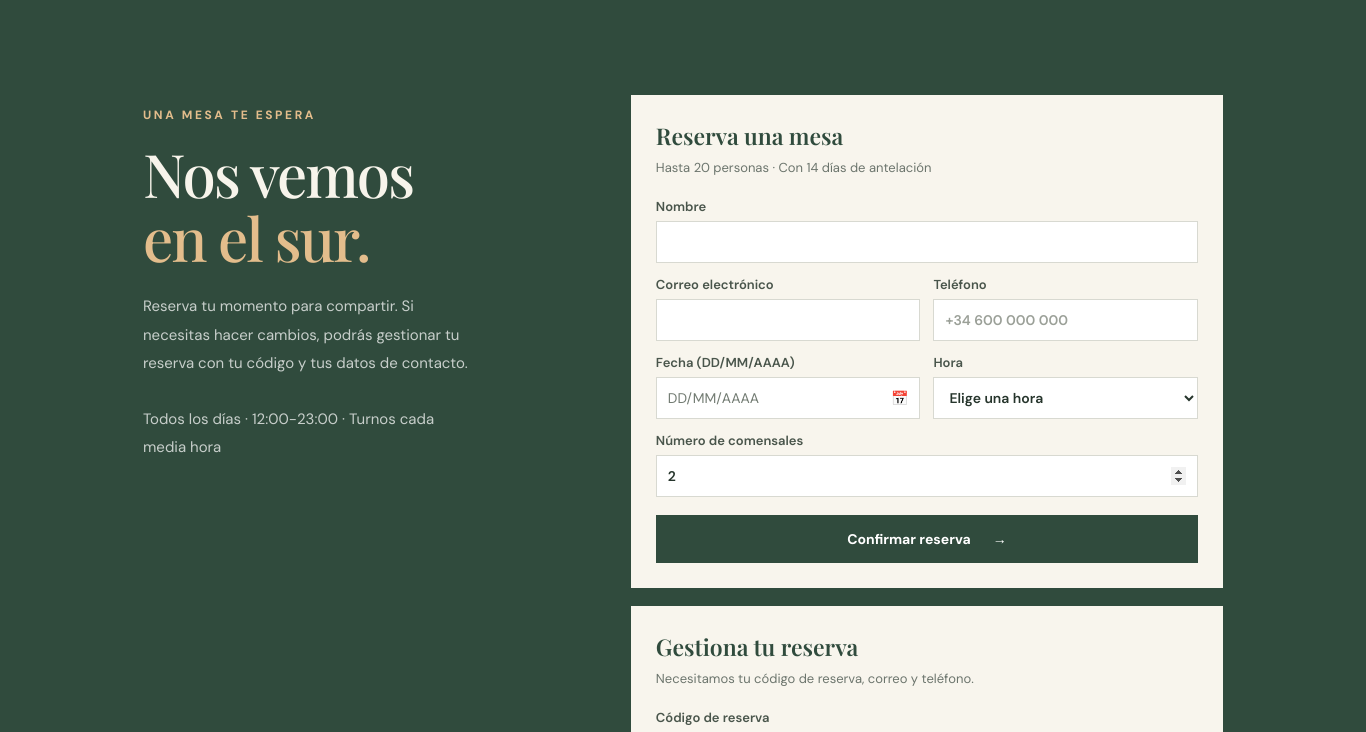
Test: ReservationSection › shows Spanish validation and requires choosing a date
Type "Ana Pérez" into the field labelled "Nombre".
click(927, 242); type("Ana Pérez")  # box [656, 221, 1198, 263]
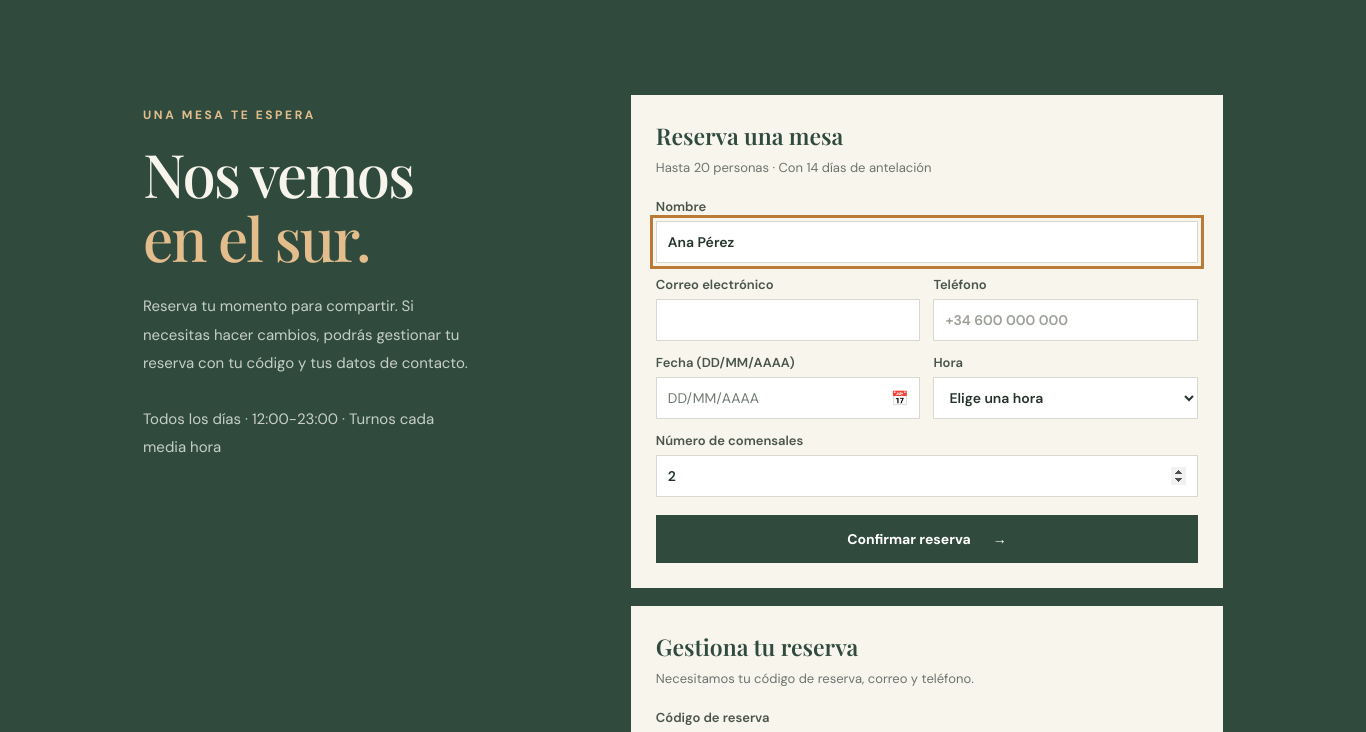
Type "ana@example.com" into the field named "email".
click(788, 320); type("ana@example.com")  # box [656, 299, 920, 341]
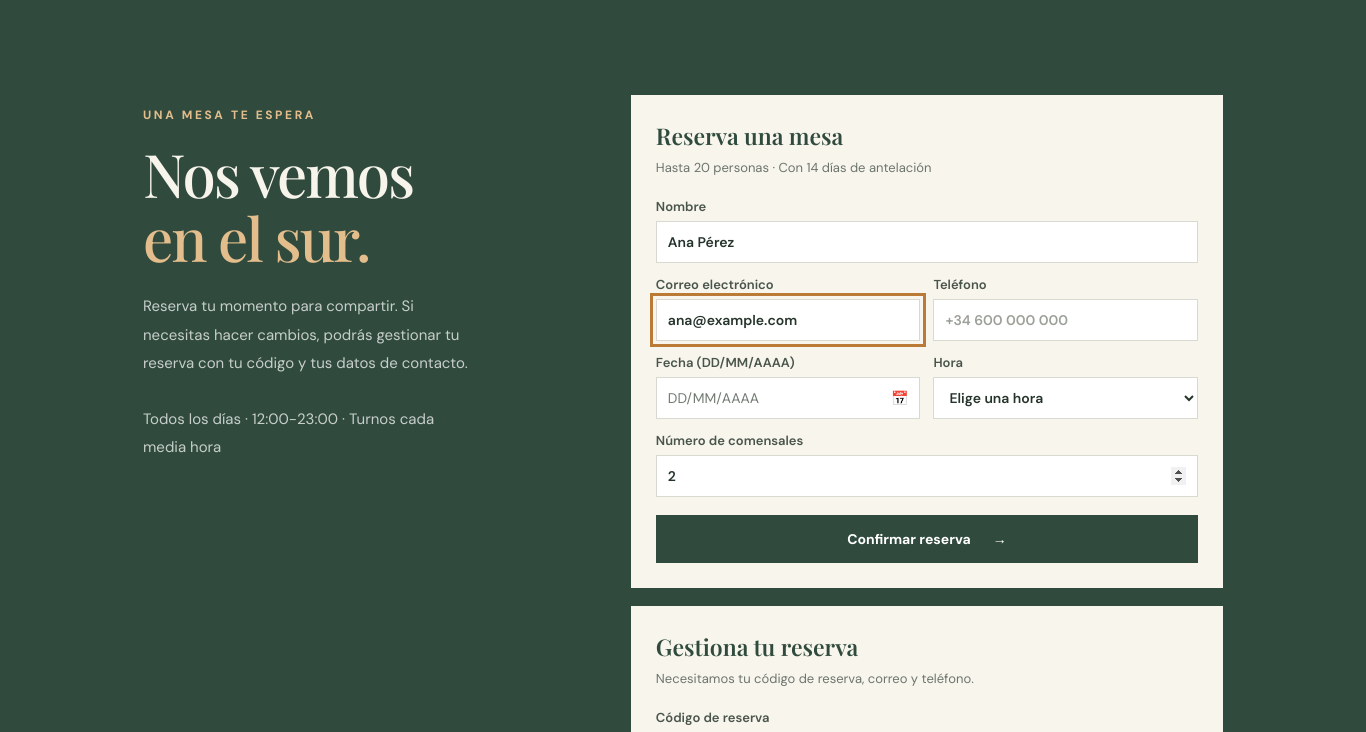
Type "+34612345678" into the field named "phone".
click(1066, 320); type("+34612345678")  # box [933, 299, 1198, 341]
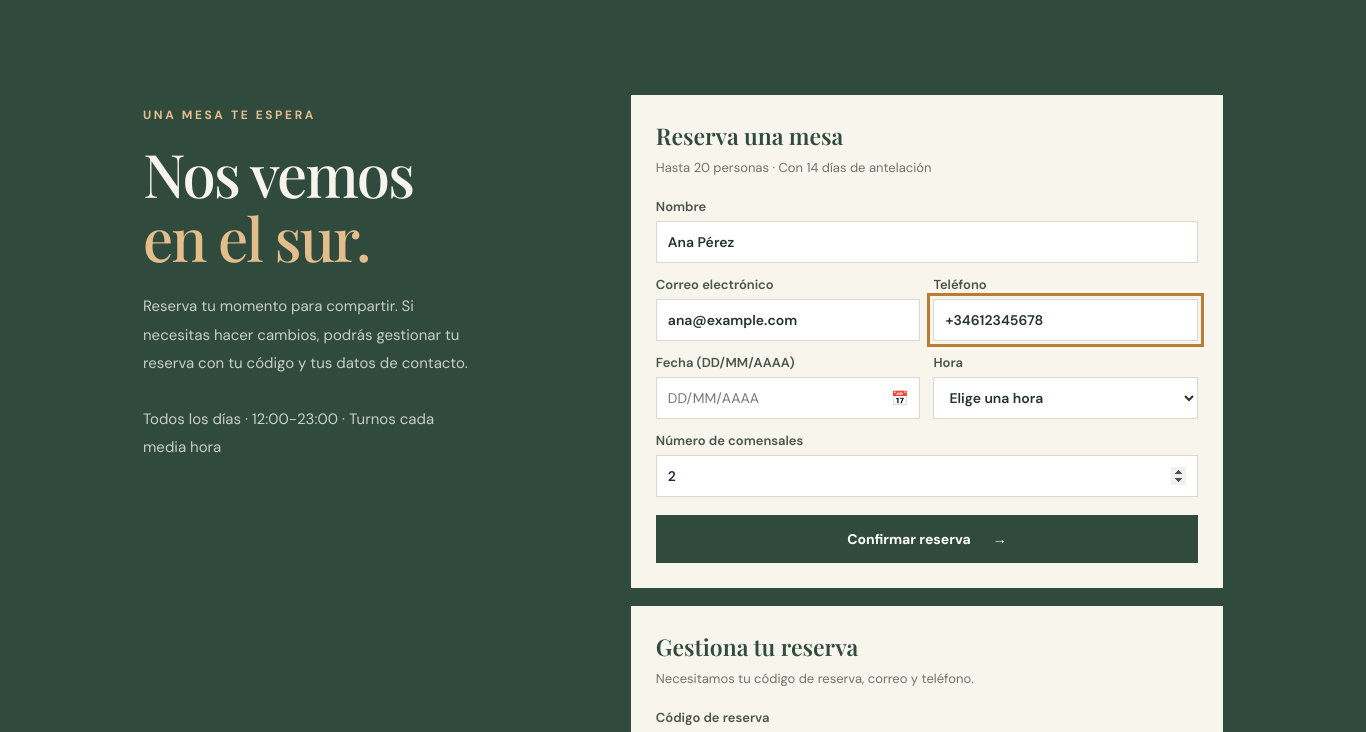
Select "18:30" in the dropdown named "time" at (1066,398), box [933, 377, 1198, 419]
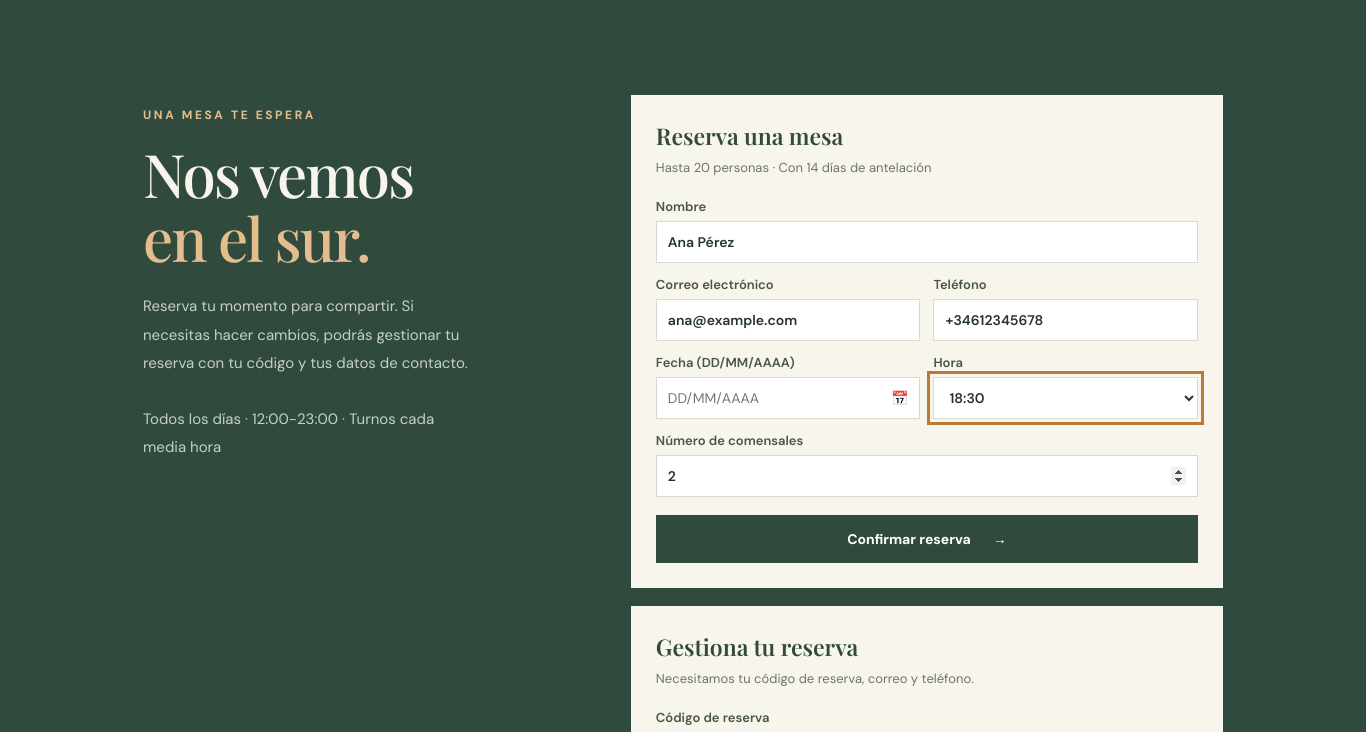
Click the button "Confirmar reserva →".
click(927, 539)  # box [656, 515, 1198, 563]
(page scrolled)
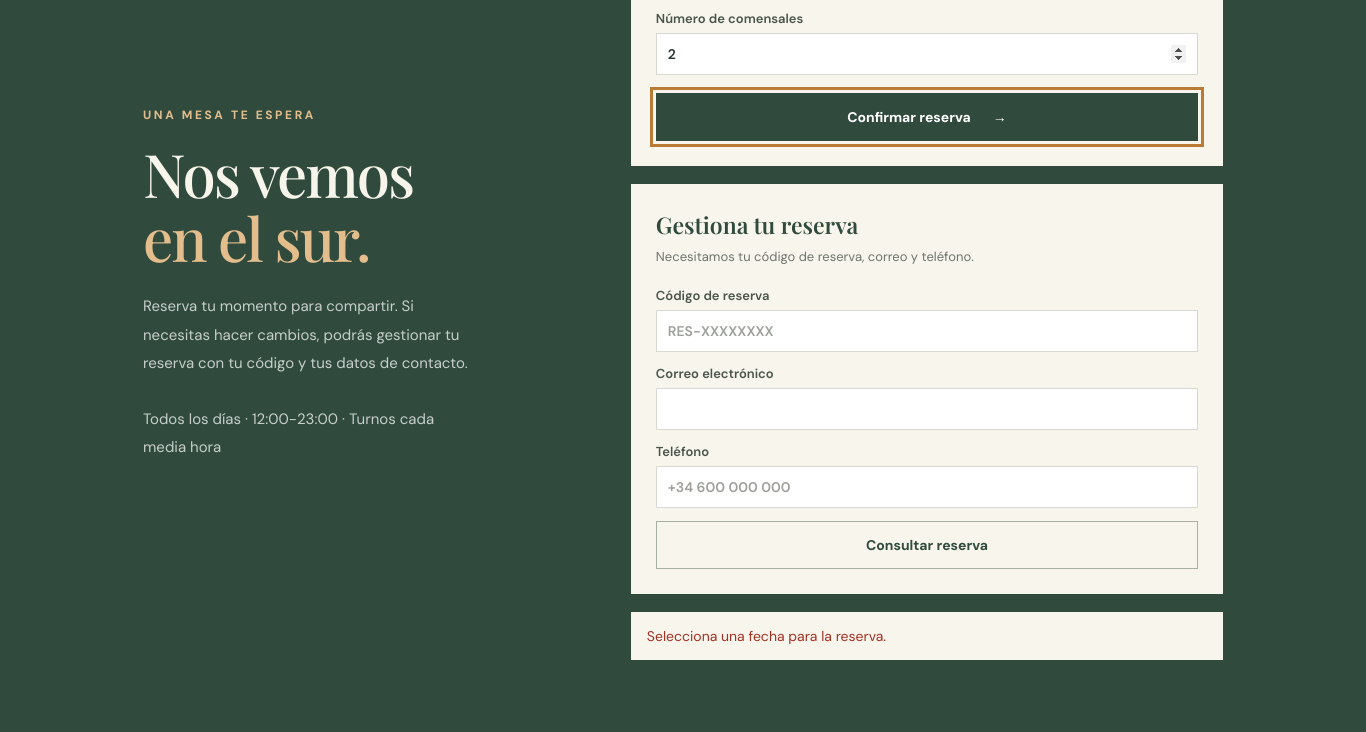
Result: the message reads "Selecciona una fecha para la reserva." at [647, 627, 886, 645]
